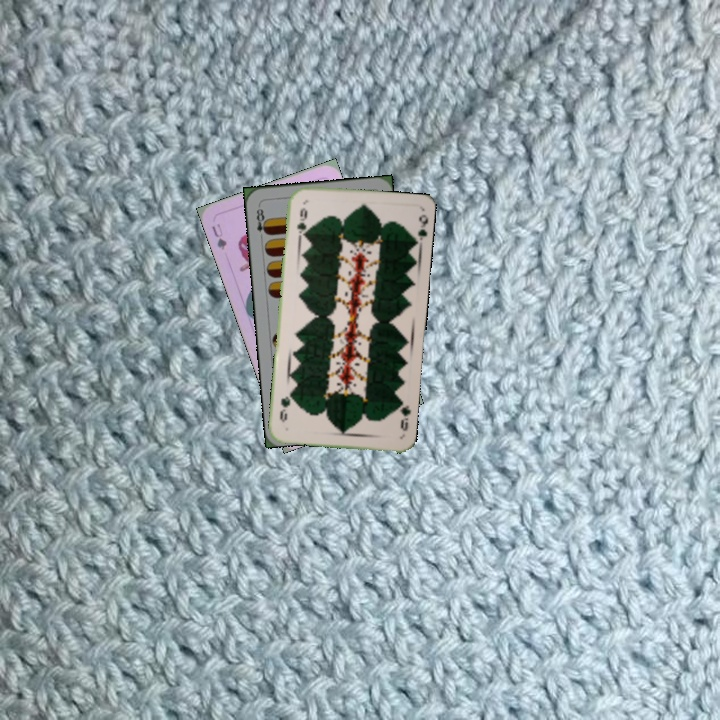E8: (252, 202, 271, 242)
G9: (394, 396, 413, 434), (293, 204, 309, 240)
GU: (208, 220, 229, 253)
